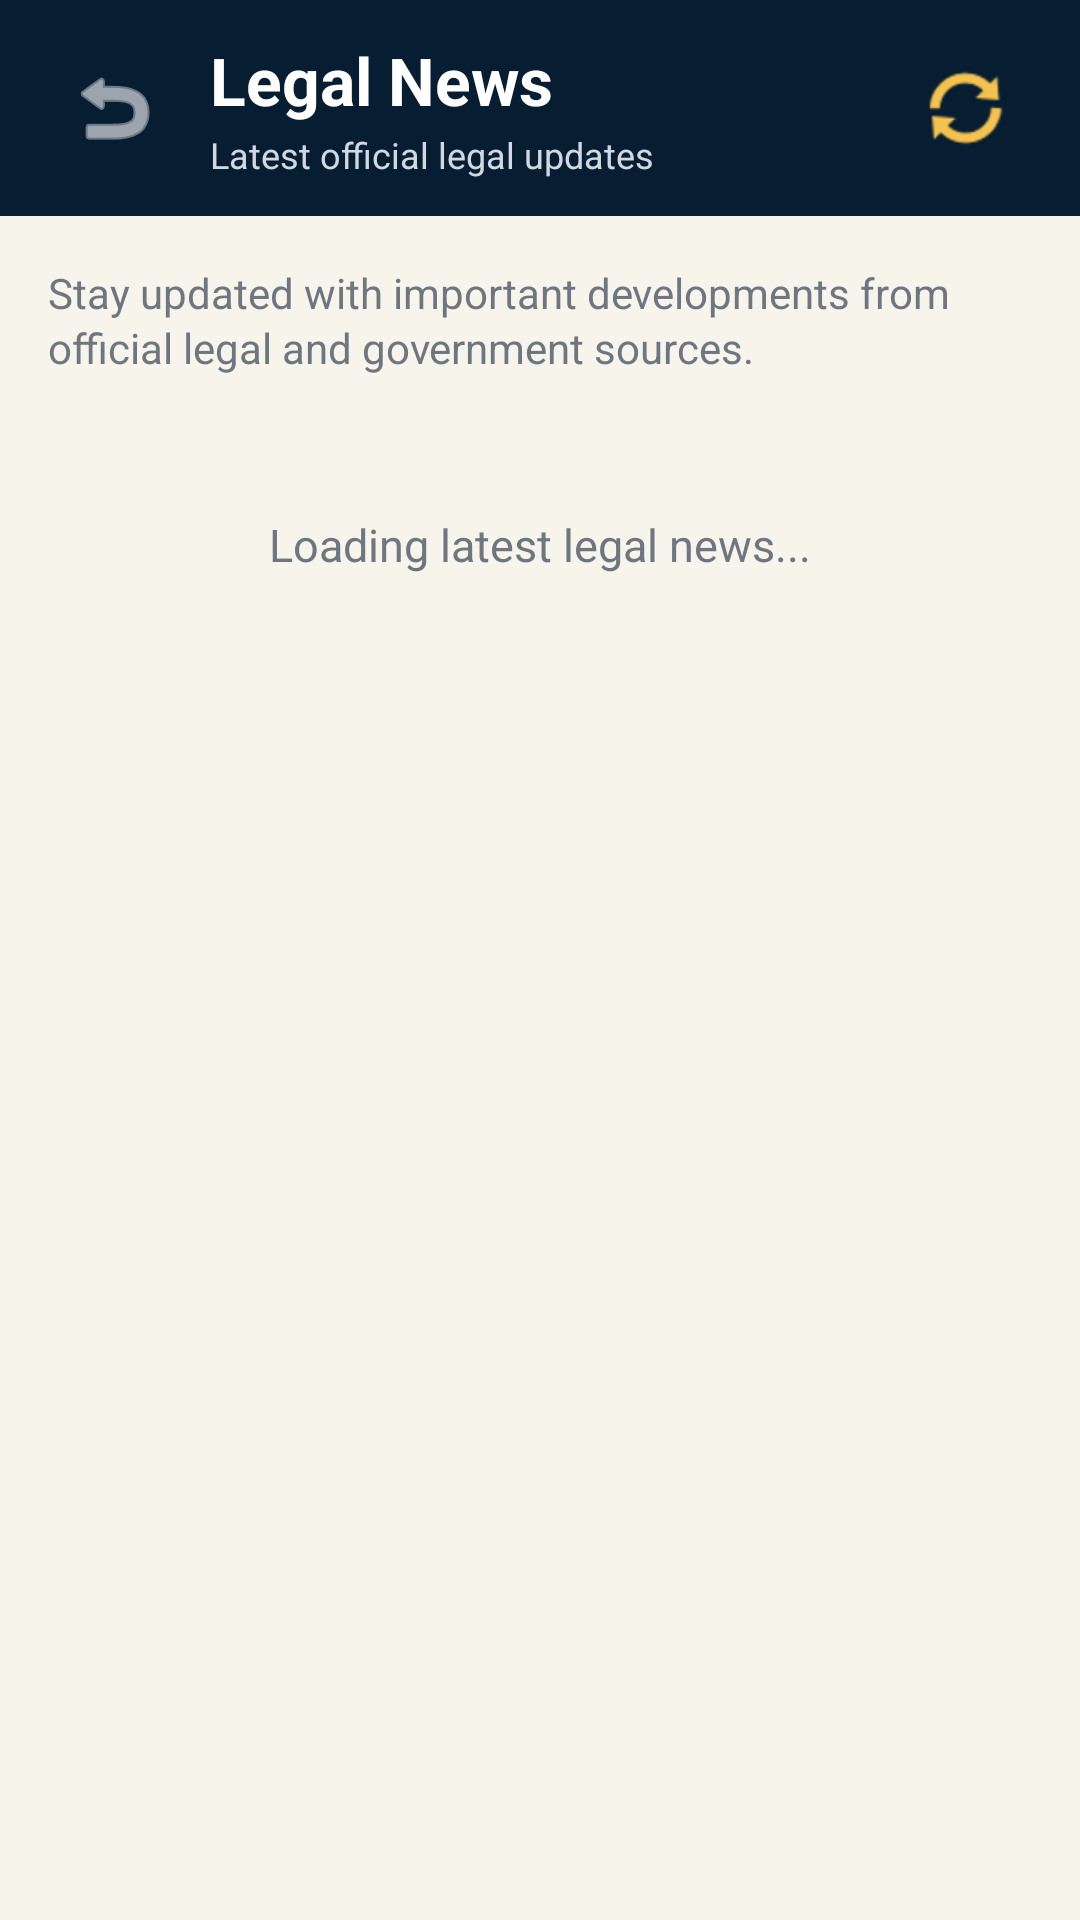

Named icons in this screenshot (1080*1920) and their centers, point (x, y):
Back: point (115, 108)
Refresh: point (966, 108)
